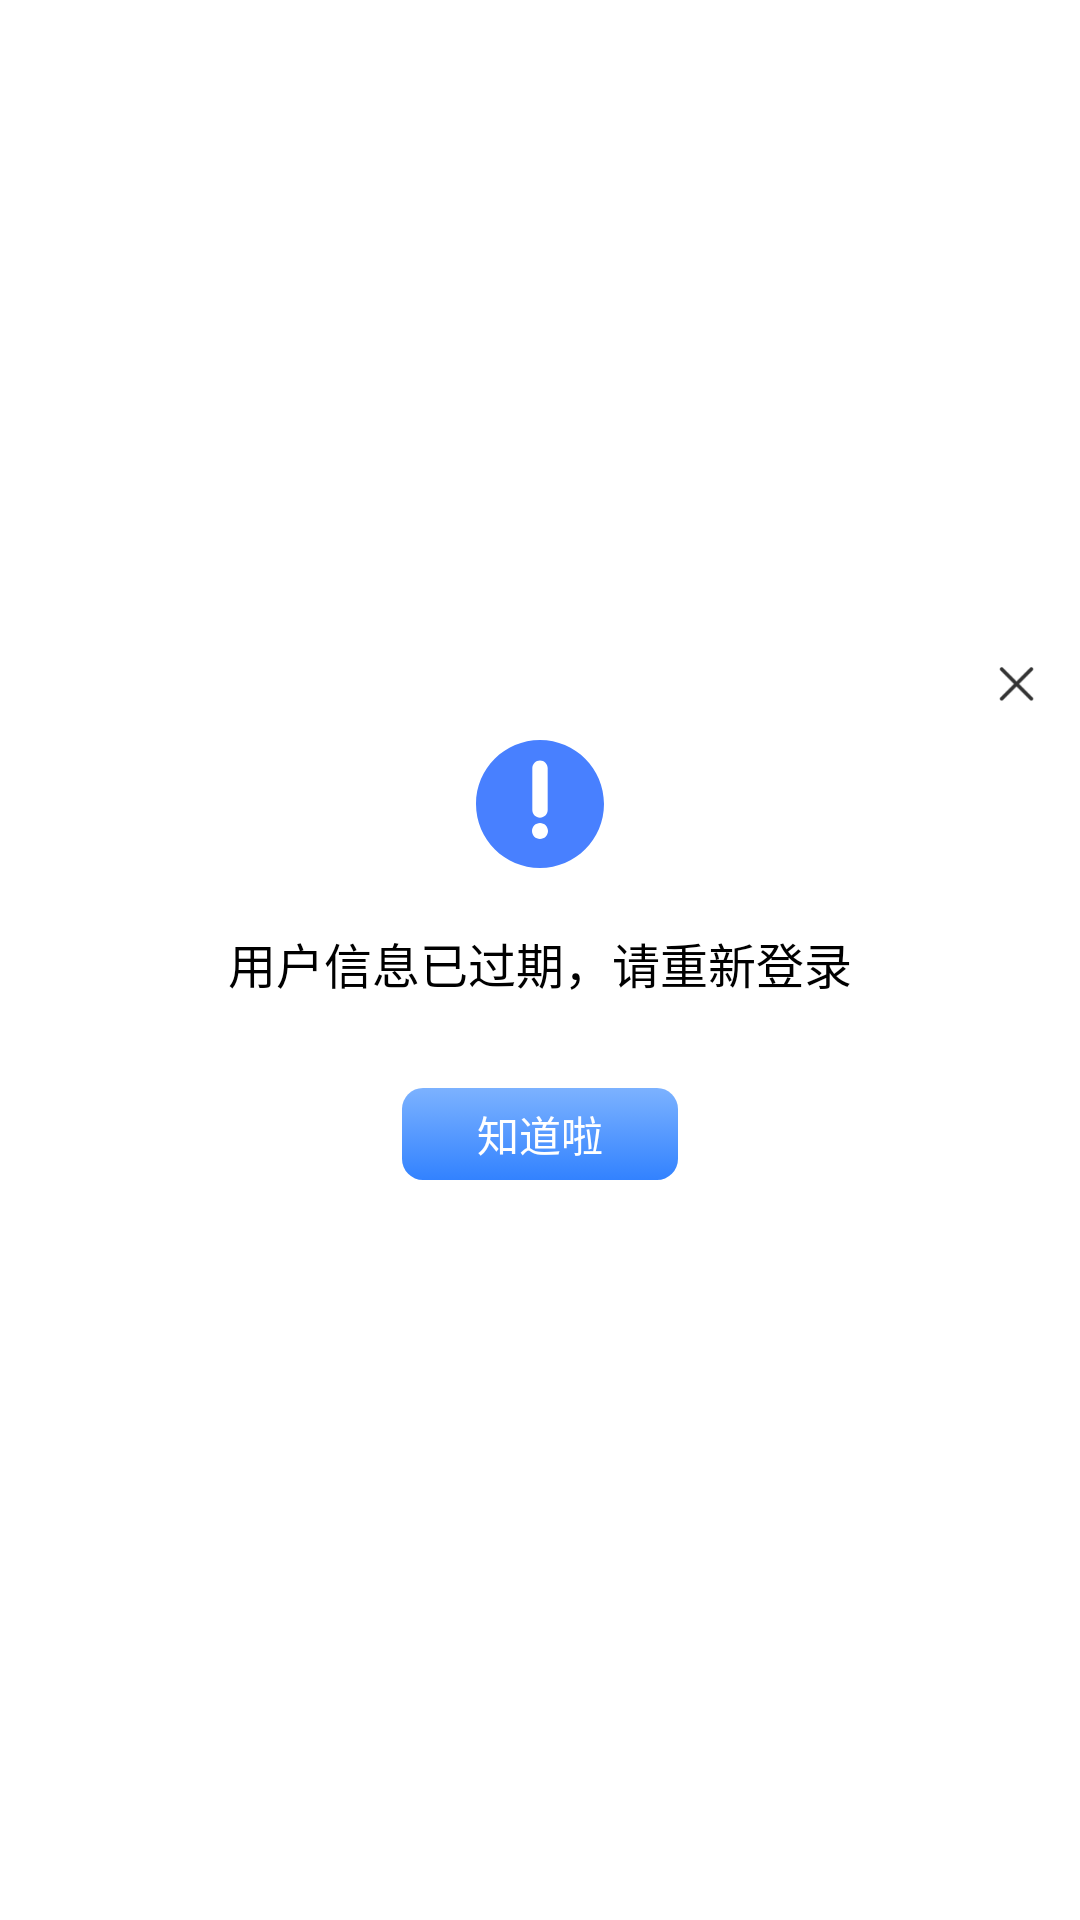

Where to tap for icons on this 1080px×1920px app screen, as [x,y]:
close: [1016,684]
